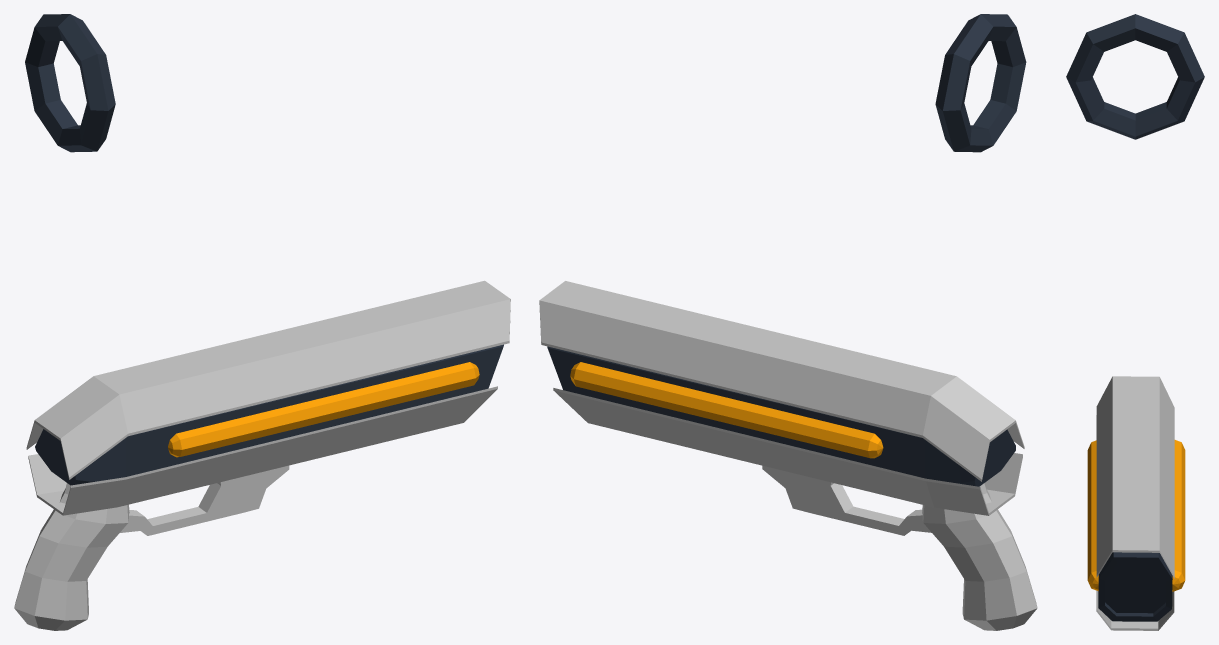
The model's file is pistola good.obj.
The picture shows the model from 3 angles, left to right: view 1: azimuth 30°, elevation 25°; view 2: azimuth 150°, elevation 25°; view 3: azimuth 270°, elevation 25°; orthographic projection. The views are drawn at different scales.
Parts seen in each view (by area): view 1: Cylinder.003, Cylinder.004, Cylinder.002, Cylinder.005, Torus.001, Sphere.001, Cube; view 2: Cylinder.003, Cylinder.004, Cylinder.002, Cylinder.005, Sphere, Torus.001, Cube; view 3: Cylinder.003, Torus.001, Cylinder.002, Sphere, Sphere.001, Cylinder.004.
Boxes of the visible parts, left/top/right/bottom form: Cylinder.003: left=26, top=280, right=510, bottom=479; Cylinder.004: left=28, top=386, right=497, bottom=515; Cylinder.002: left=35, top=344, right=503, bottom=485; Cylinder.005: left=14, top=483, right=129, bottom=630; Torus.001: left=25, top=14, right=115, bottom=152; Sphere.001: left=168, top=362, right=479, bottom=457; Cube: left=120, top=465, right=289, bottom=535; Cylinder.003: left=539, top=281, right=1024, bottom=481; Cylinder.004: left=553, top=388, right=1022, bottom=515; Cylinder.002: left=547, top=346, right=1015, bottom=486; Cylinder.005: left=922, top=483, right=1037, bottom=630; Sphere: left=570, top=362, right=883, bottom=458; Torus.001: left=935, top=14, right=1026, bottom=152; Cube: left=762, top=465, right=931, bottom=535; Cylinder.003: left=1096, top=376, right=1174, bottom=578; Torus.001: left=1066, top=14, right=1204, bottom=139; Cylinder.002: left=1098, top=552, right=1172, bottom=621; Sphere: left=1172, top=440, right=1185, bottom=591; Sphere.001: left=1087, top=440, right=1098, bottom=591; Cylinder.004: left=1096, top=415, right=1174, bottom=630.
Size of the model in its own units: 2.61 by 3.16 by 0.7127.
